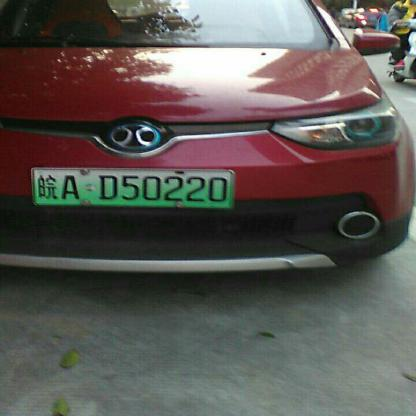lp: (36, 169, 230, 208)
